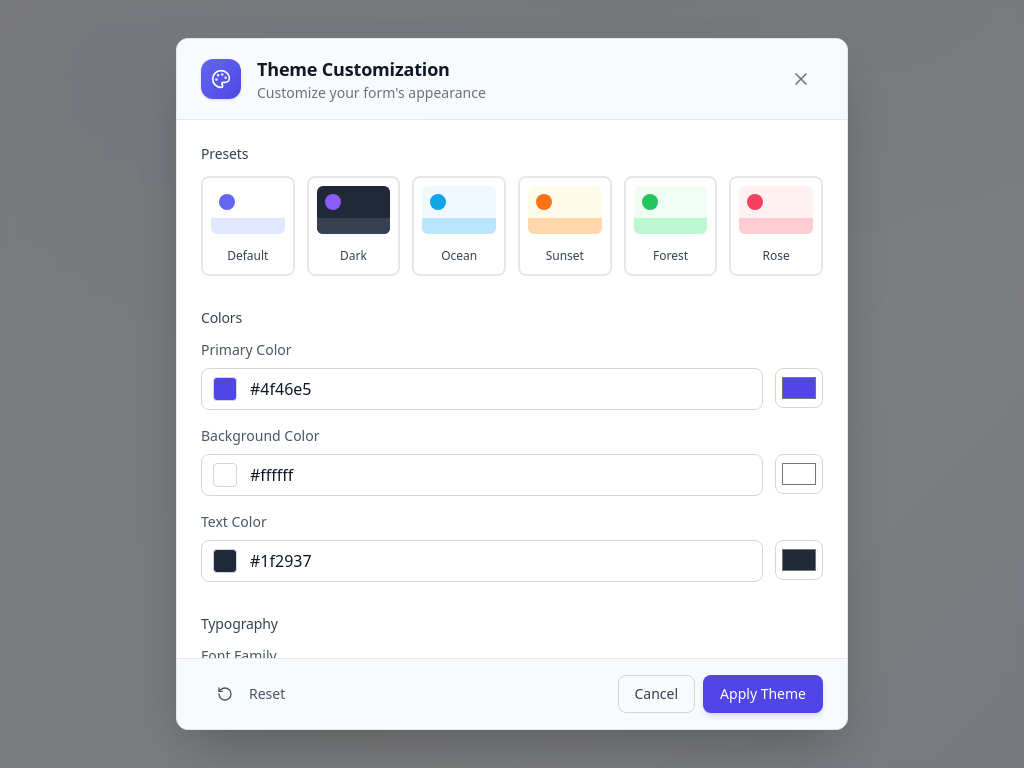
Test: Apply Theme › does not send a theme the server would refuse, whatever it took to get here
Click the button "Apply Theme": (763, 694) [703,675,823,713]
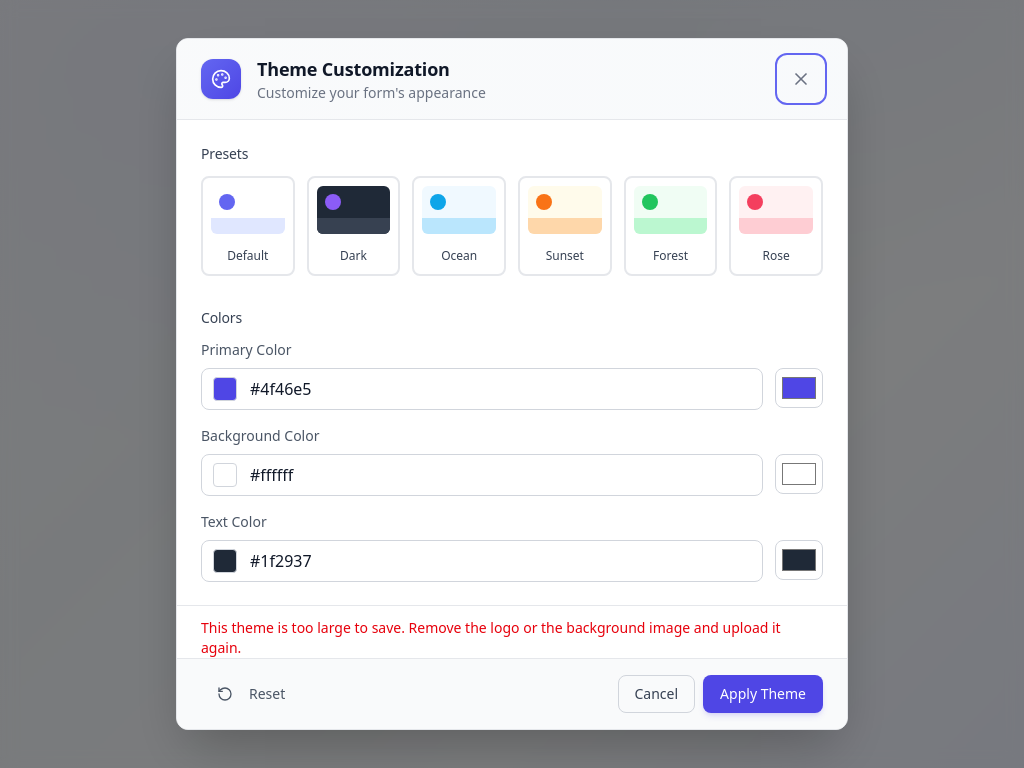
Now the message shows "too large to save", box [201,618,781,657]
